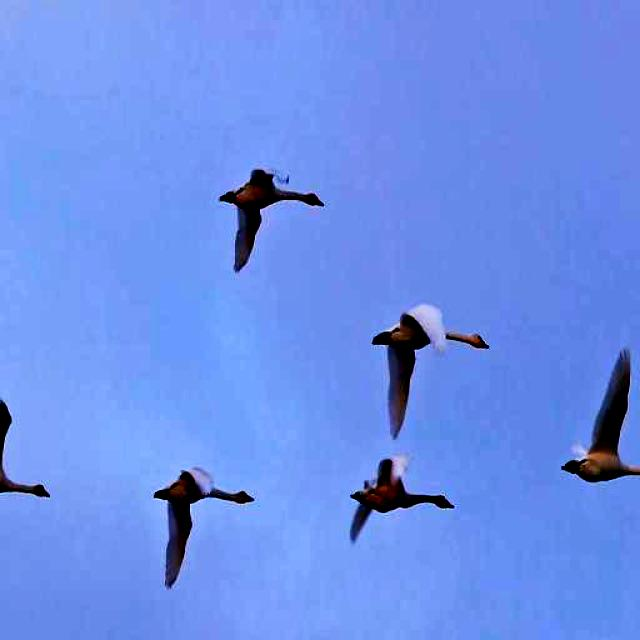airplane: (374, 294, 494, 445), (144, 449, 260, 598), (551, 332, 640, 492), (210, 151, 330, 268), (341, 454, 454, 554), (0, 378, 65, 524)
